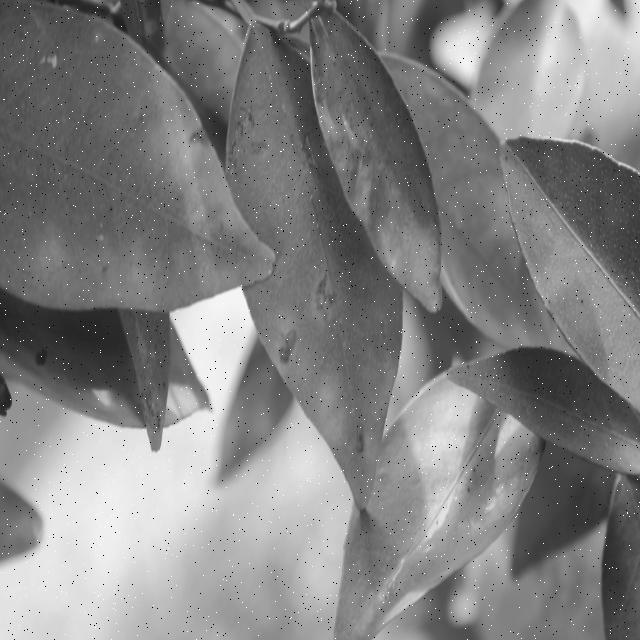canker: (229, 94, 386, 487), (30, 40, 221, 304)
